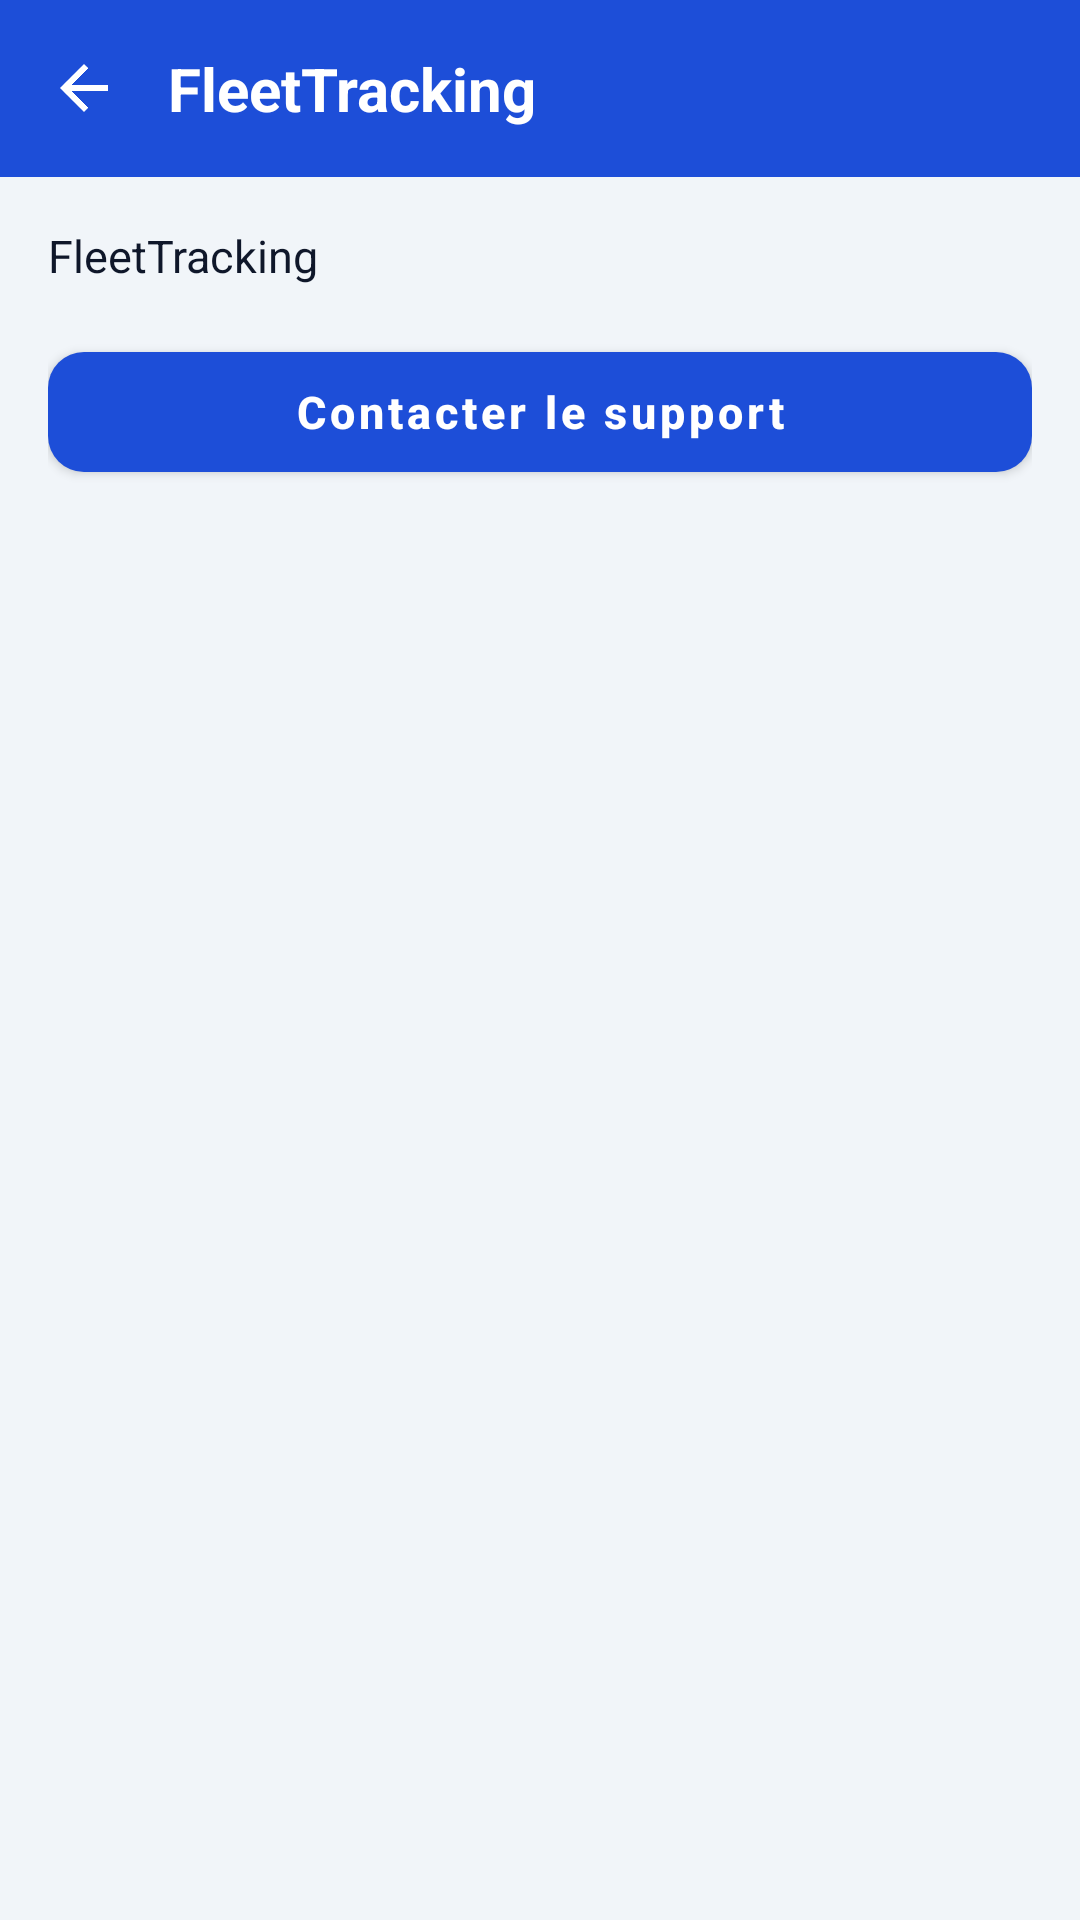

Where to tap for icons on this 1080px×1920px app screen, as (x,y):
Retour: (84,88)
